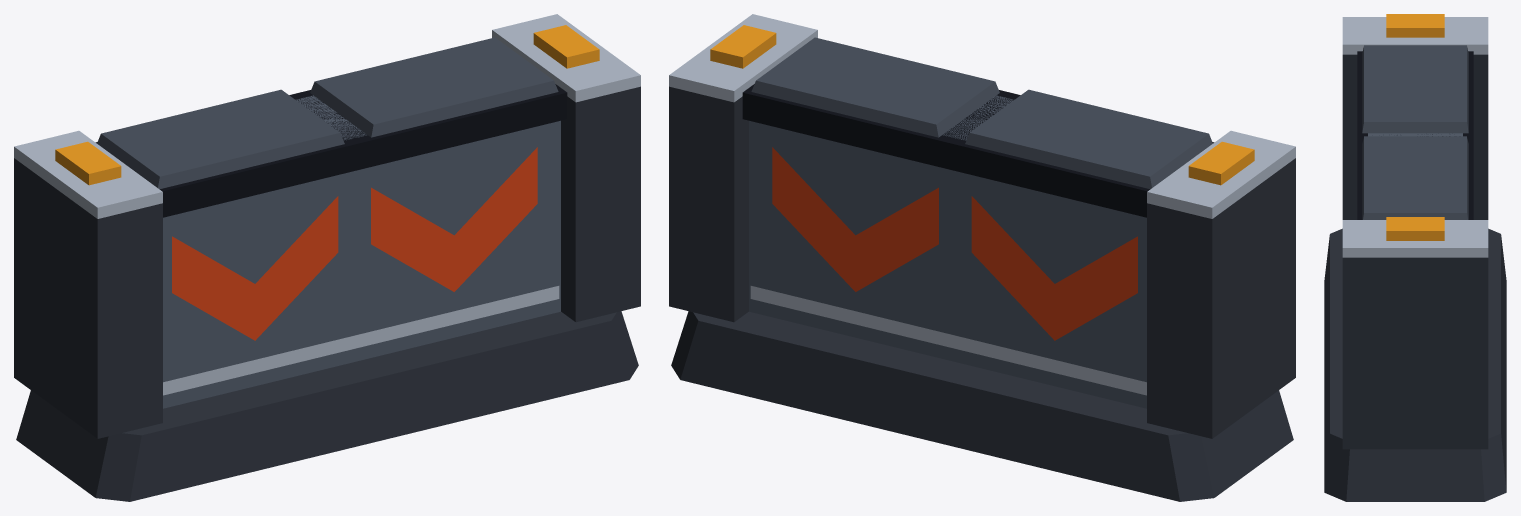
Rendered from SM_Wall_LOD0.fbx.
3 renders of one model, left to right at view 1: azimuth 30°, elevation 25°; view 2: azimuth 150°, elevation 25°; view 3: azimuth 270°, elevation 25°, orthographic. The views are drawn at different scales.
Visible parts, largest first — view 1: SM_Wall_LOD0; view 2: SM_Wall_LOD0; view 3: SM_Wall_LOD0.
Boxes of the visible parts, x1=… form: SM_Wall_LOD0: x1=14, y1=14, x2=640, y2=501; SM_Wall_LOD0: x1=669, y1=14, x2=1295, y2=501; SM_Wall_LOD0: x1=1324, y1=14, x2=1506, y2=501.
Size of the model in its own units: 3 by 1.6 by 1.
